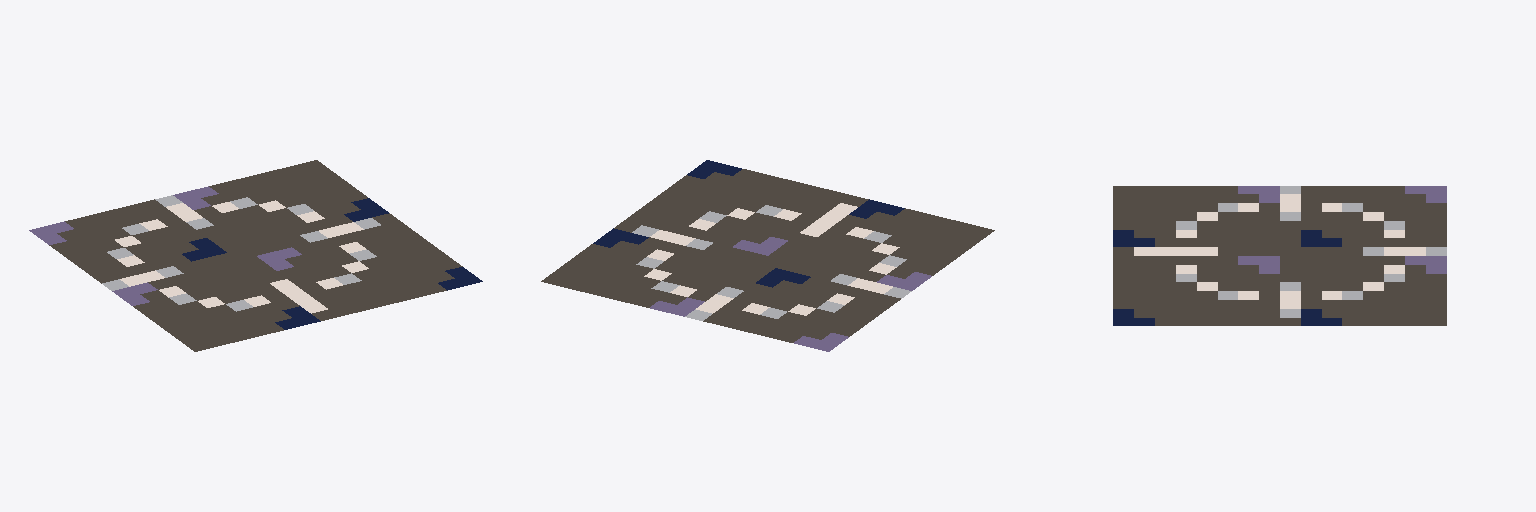
3 renders of one model, left to right at view 1: azimuth 30°, elevation 25°; view 2: azimuth 150°, elevation 25°; view 3: azimuth 270°, elevation 25°, orthographic.
Parts seen in each view (by area): view 1: tarmac1; view 2: tarmac1; view 3: tarmac1.
Boxes of the visible parts, x1=… form: tarmac1: x1=29, y1=160, x2=482, y2=351; tarmac1: x1=541, y1=160, x2=994, y2=351; tarmac1: x1=1113, y1=186, x2=1446, y2=325.
Bounding box in the file's own units: 2 × 0 × 2.
1 materials, 1 textured.